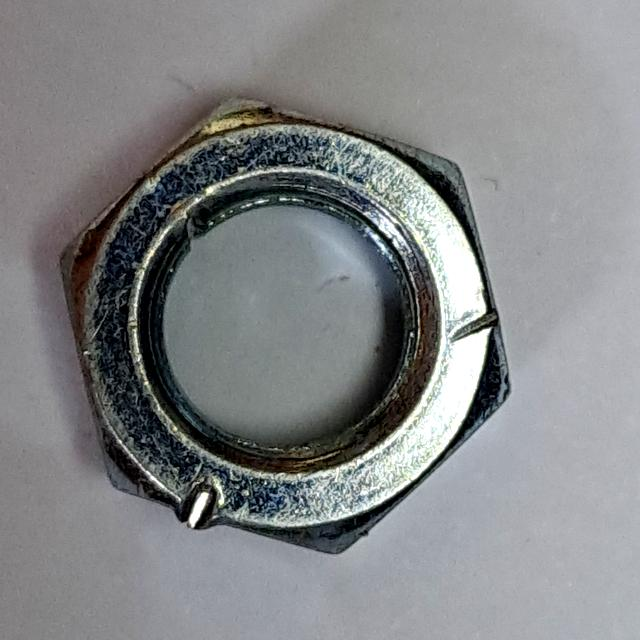Scratches: (49, 79, 536, 576)
